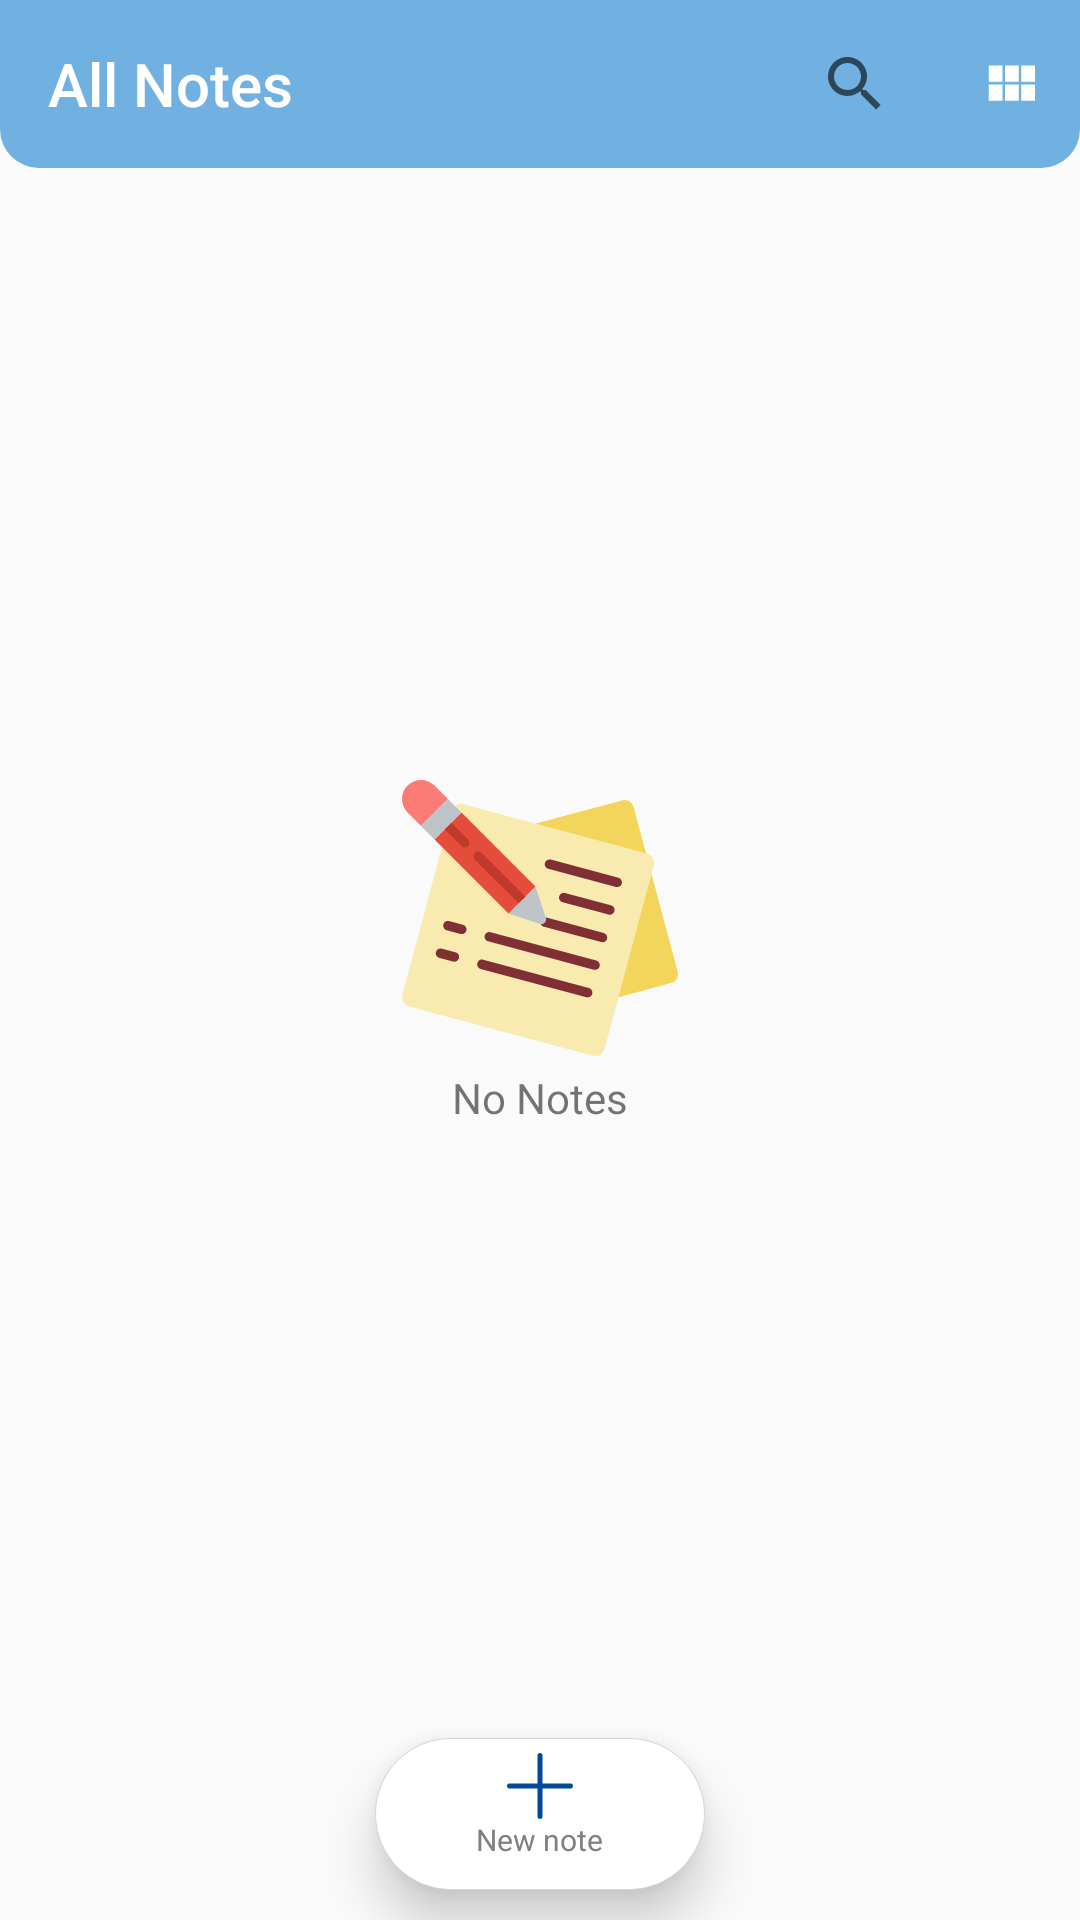

Icon bounding boxes for this 1080px x 1920px phone screenshot, format (x1, y1, x2, y2):
notepad: (402, 780, 678, 1056)
plus: (507, 1753, 573, 1819)
